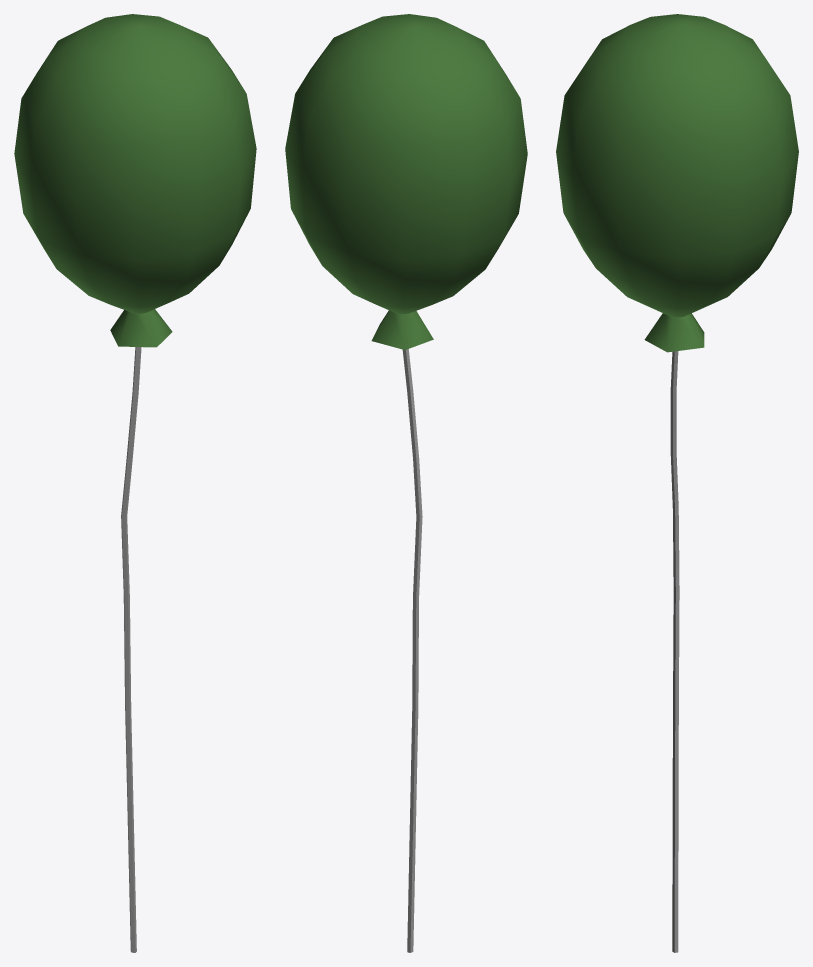
The model's file is Balloon_Single_03.fbx.
3 renders of one model, left to right at view 1: azimuth 30°, elevation 25°; view 2: azimuth 150°, elevation 25°; view 3: azimuth 270°, elevation 25°, orthographic.
Visible parts, largest first — view 1: Balloon_Single_03; view 2: Balloon_Single_03; view 3: Balloon_Single_03.
Boxes of the visible parts, <box> form: Balloon_Single_03: <box>14,14,256,952</box>; Balloon_Single_03: <box>285,14,527,952</box>; Balloon_Single_03: <box>556,14,798,952</box>.
Bounding box in the file's own units: 0.2463 × 1.04 × 0.2464.
